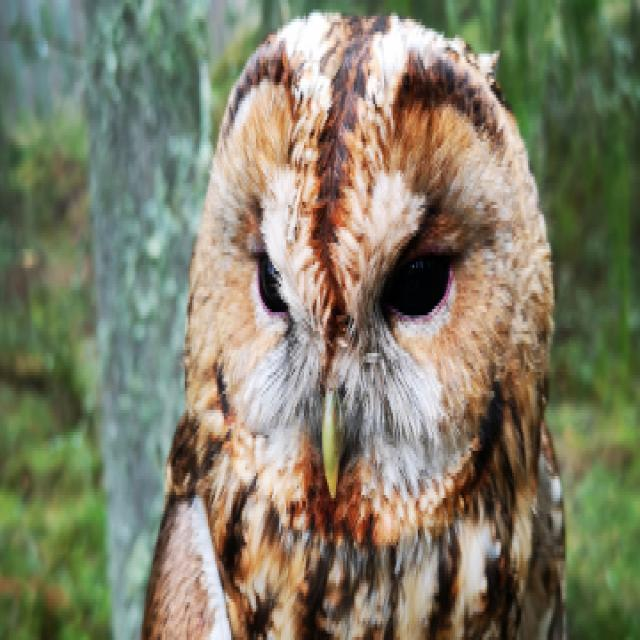Owl: (151, 9, 549, 640)
